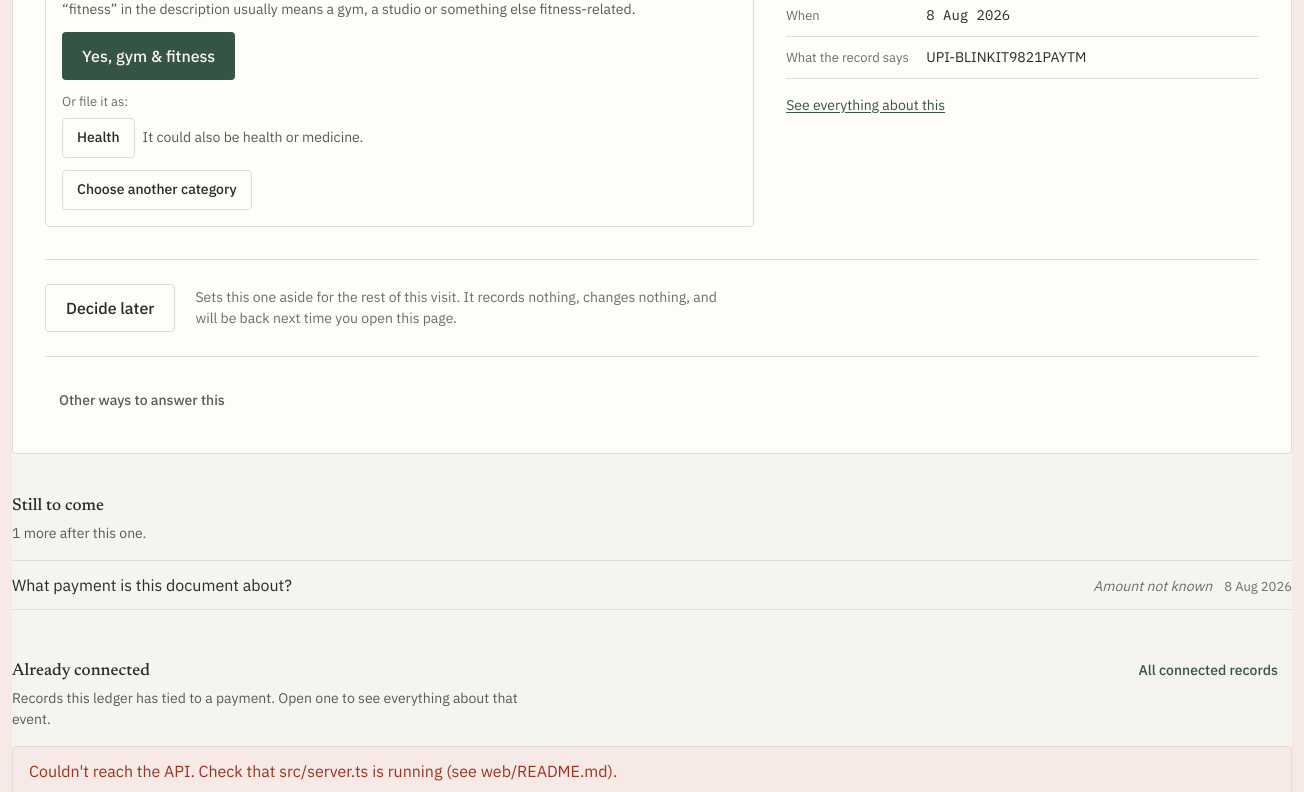
Scenario: nothing is decided from this screen › reveals the existing inspector rather than offering an approve button
(page scrolled)
Expected: the button "Accept this proposal" is not shown
Click the button "Other ways to answer this": (142, 400) [45,380,239,420]
(page scrolled)
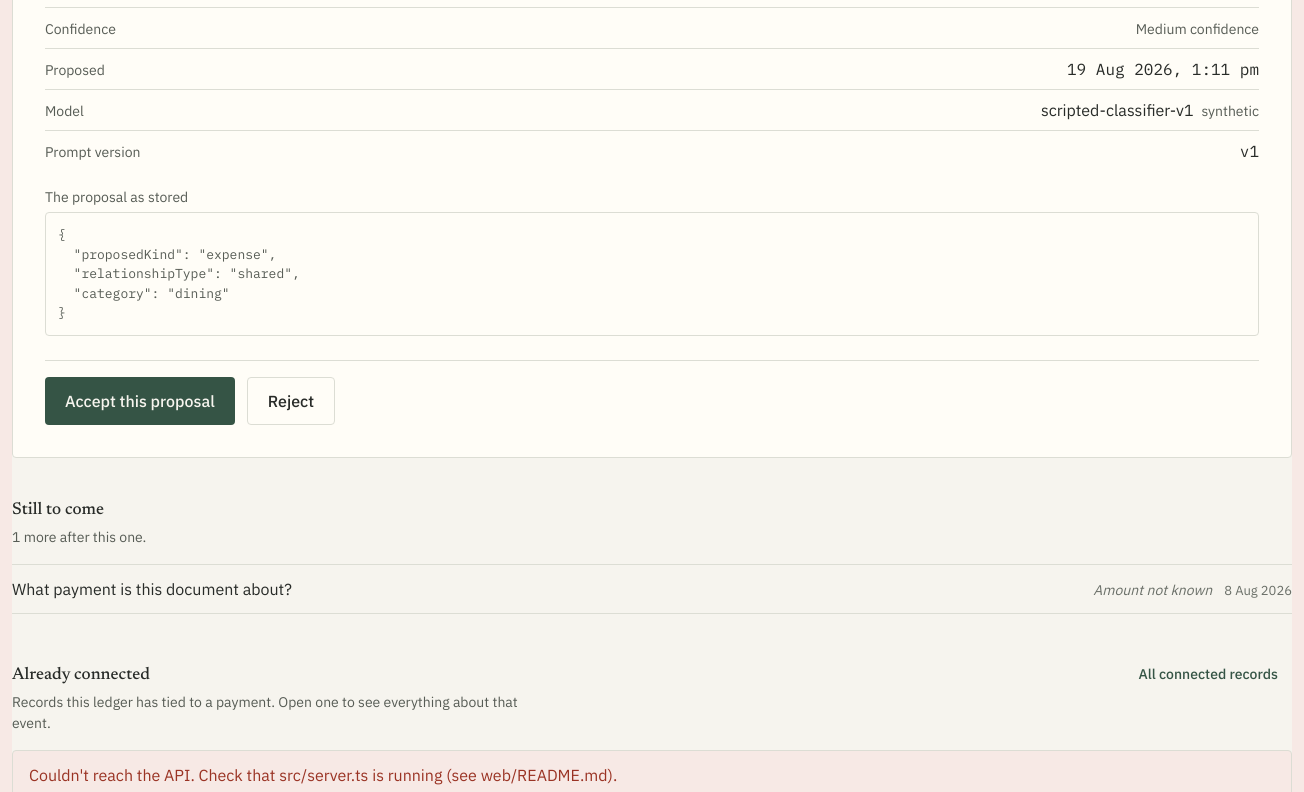
Result: the button "Accept this proposal" is shown at [45,376,235,424]
